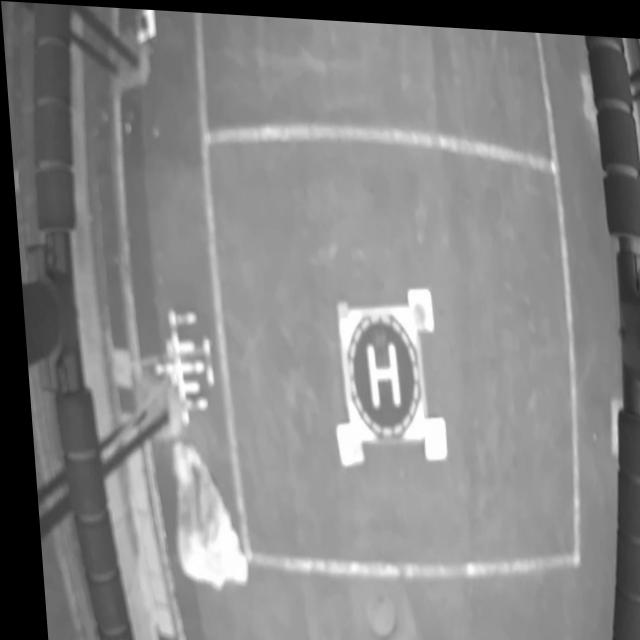Helipad: (359, 338, 395, 403)
